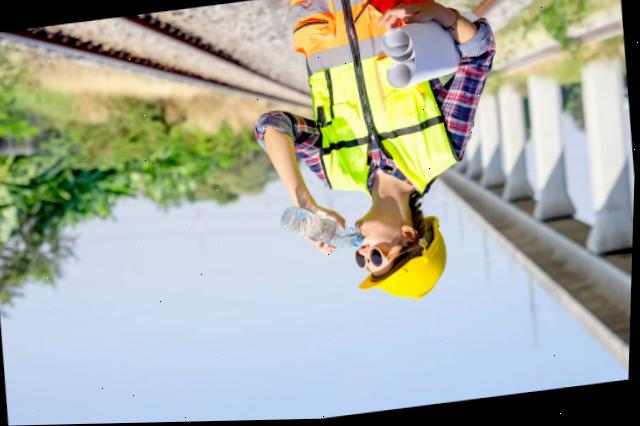helmet: (359, 223, 450, 307)
vest: (307, 0, 450, 195)
